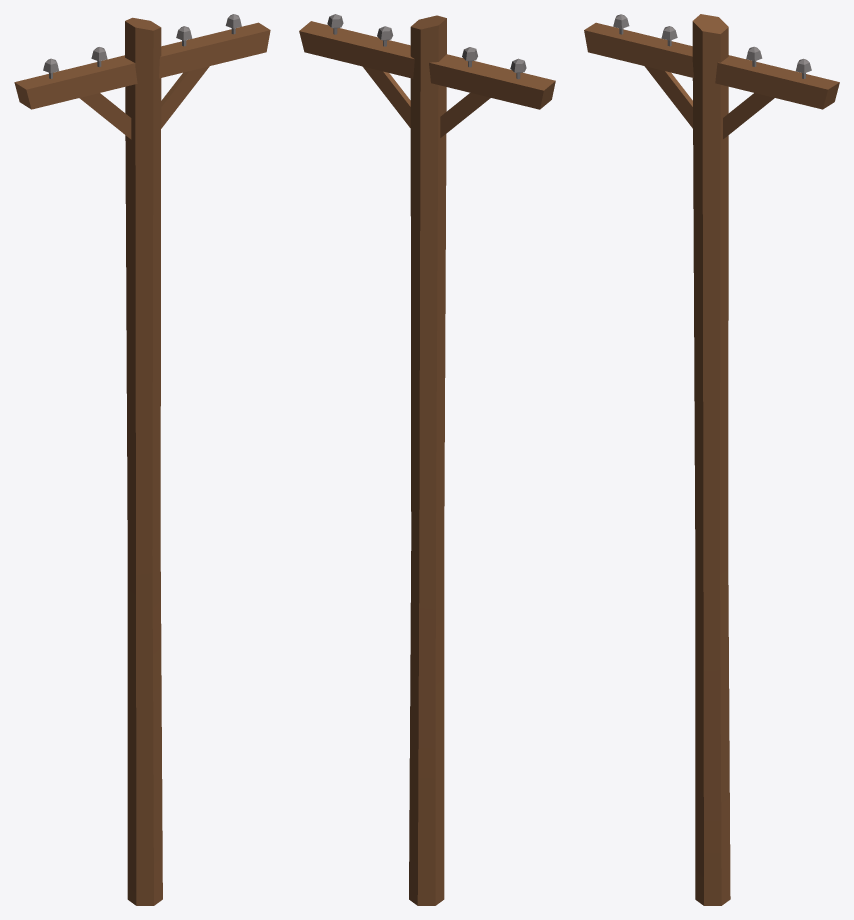
The model's file is western_pole-electric.fbx.
The picture shows the model from 3 angles, left to right: view 1: azimuth 30°, elevation 25°; view 2: azimuth 150°, elevation 25°; view 3: azimuth 330°, elevation 25°; orthographic projection.
Parts seen in each view (by area): view 1: western_pole_electric; view 2: western_pole_electric; view 3: western_pole_electric.
Part boxes in pixels (x1,y1,x2,y2): western_pole_electric: (14, 14, 270, 905); western_pole_electric: (299, 14, 555, 905); western_pole_electric: (584, 14, 839, 905).
Bounding box in the file's own units: 58.14 × 200 × 7.68.
